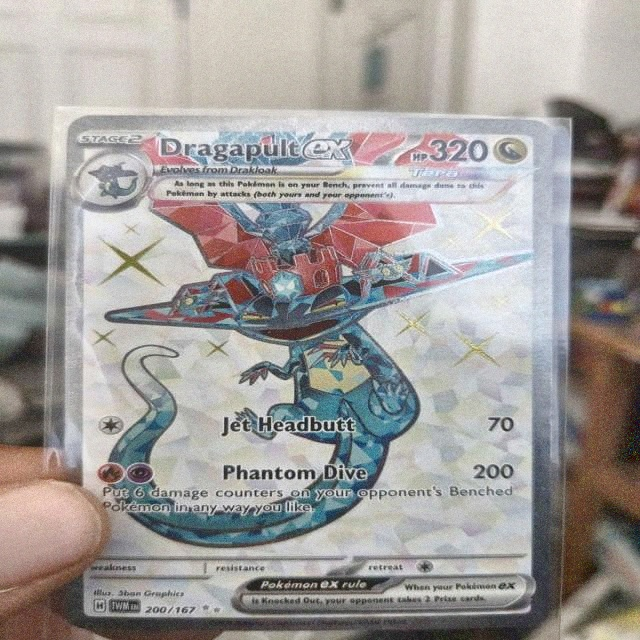card: (59, 114, 556, 630)
